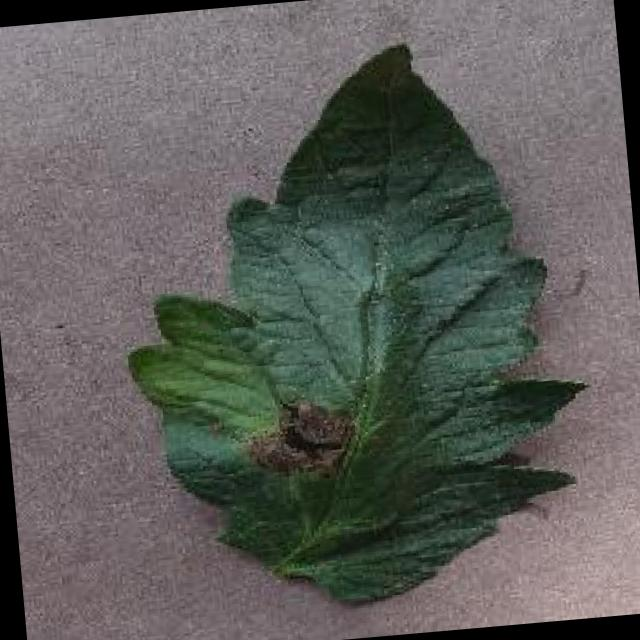Tomato_Early_Blight: (150, 239, 372, 533)
